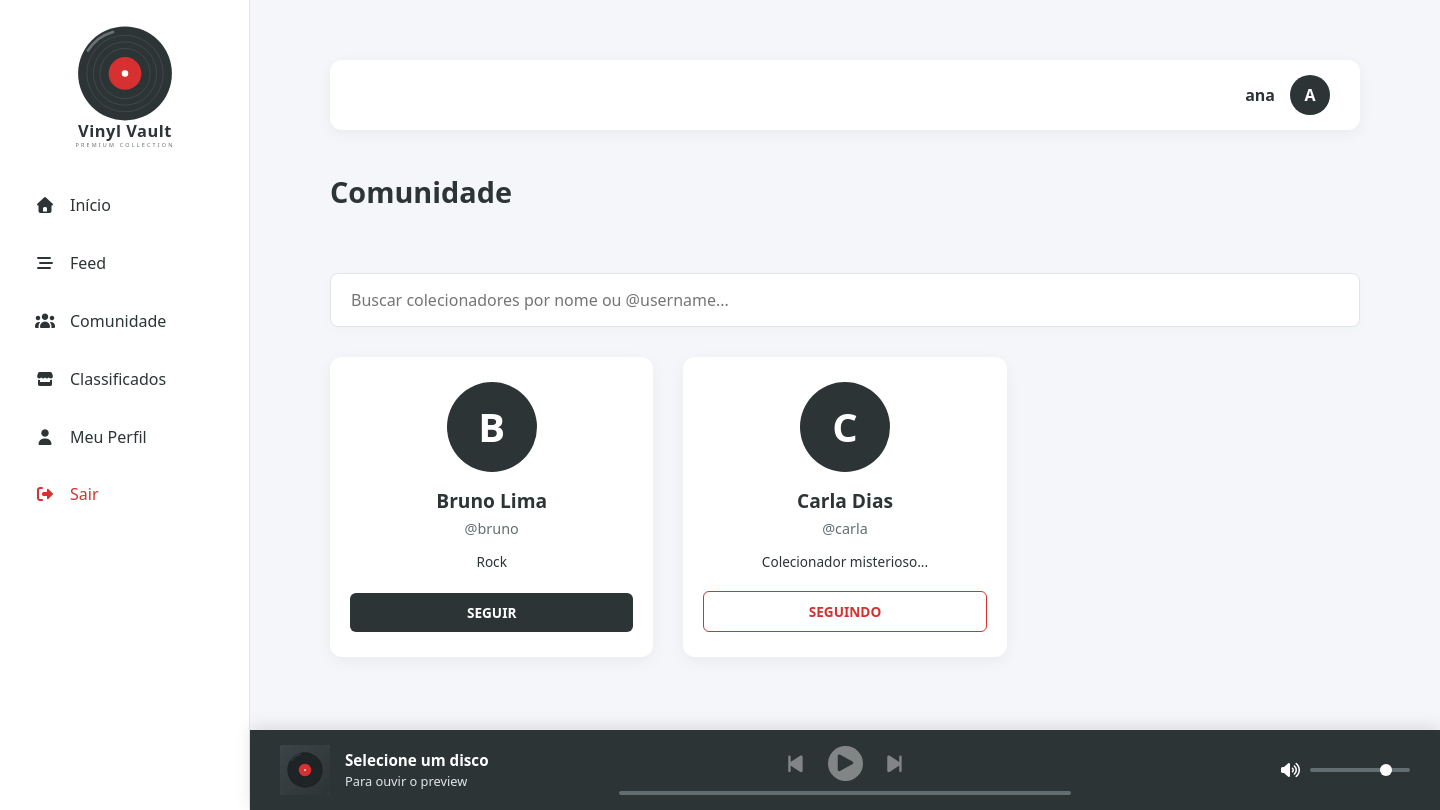
it: Community › lists collectors and follows / unfollows them
Click the button "Seguir": (492, 612) [350,593,633,632]
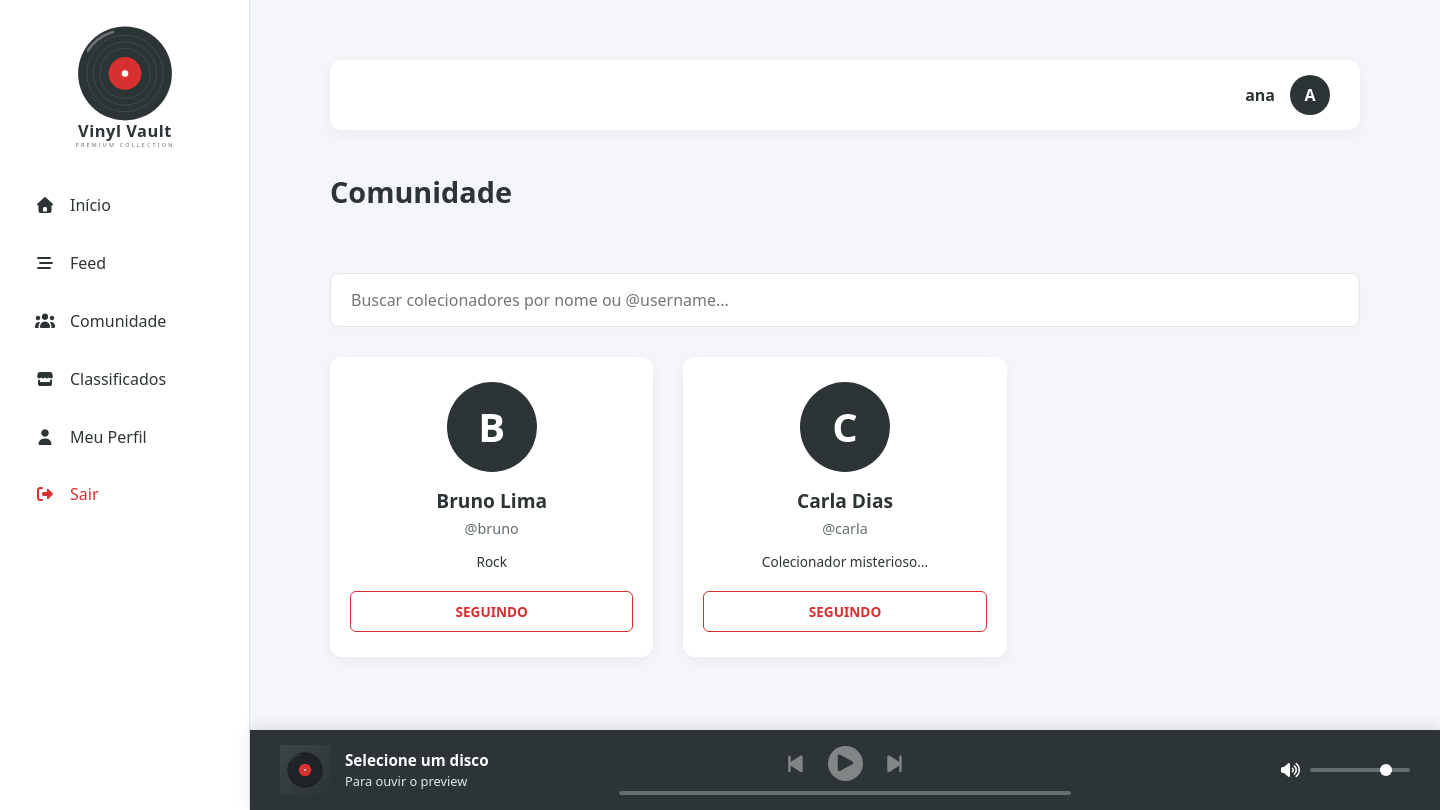
Check: the button "Seguindo" below "Rock" is pressed, box [350,591,633,632]
Click the button "Seguindo" below "Colecionador misterioso...": (845, 611) [703,591,987,632]
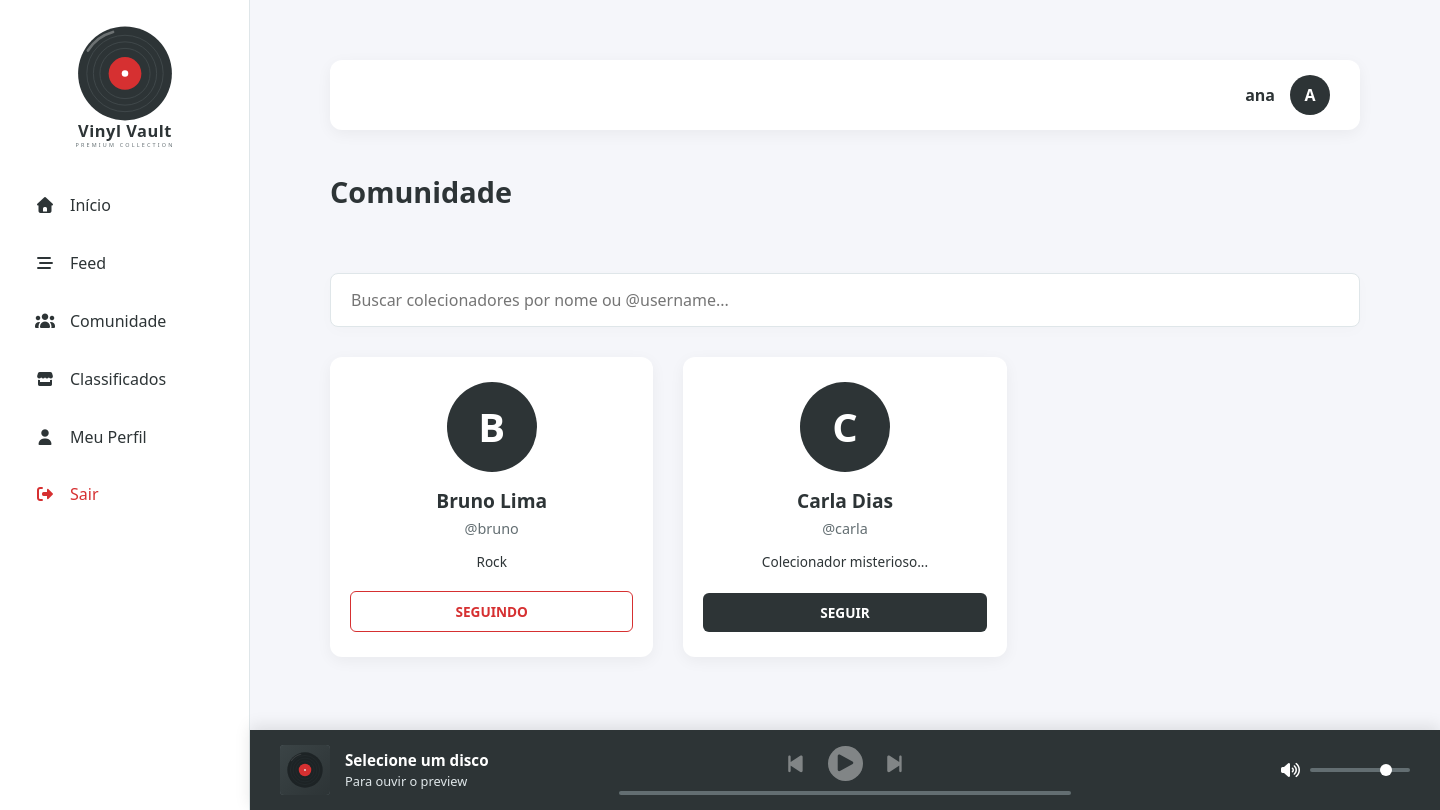
Check: the button "Seguir" is shown, box [703,593,987,632]
